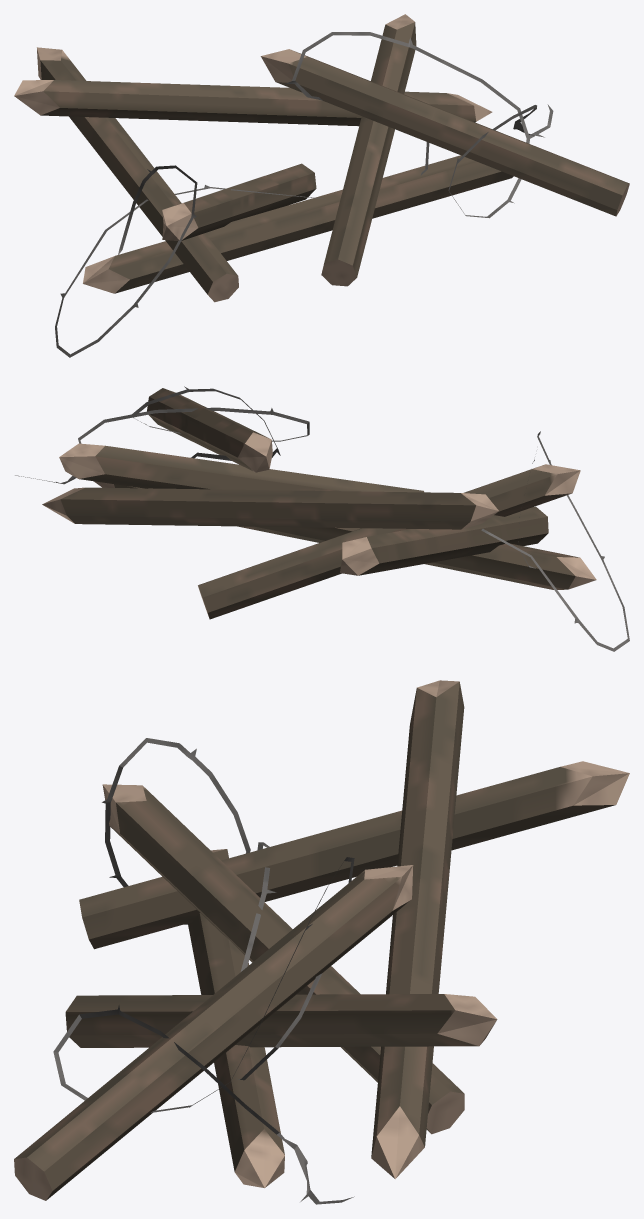
File: BrokenBarricade.fbx
3 renders of one model, top to bottom at view 1: azimuth 30°, elevation 25°; view 2: azimuth 150°, elevation 25°; view 3: azimuth 270°, elevation 25°, orthographic. The views are drawn at different scales.
Visible parts, largest first — view 1: BrokenBarricade, Wire; view 2: BrokenBarricade, Wire; view 3: BrokenBarricade, Wire.
Boxes of the visible parts, x1=… form: BrokenBarricade: x1=14, y1=14, x2=629, y2=302; Wire: x1=55, y1=32, x2=553, y2=357; BrokenBarricade: x1=42, y1=388, x2=596, y2=619; Wire: x1=15, y1=386, x2=629, y2=651; BrokenBarricade: x1=14, y1=680, x2=629, y2=1200; Wire: x1=53, y1=738, x2=354, y2=1204.
Bounding box in the file's own units: 3.94 × 1.42 × 2.68.
